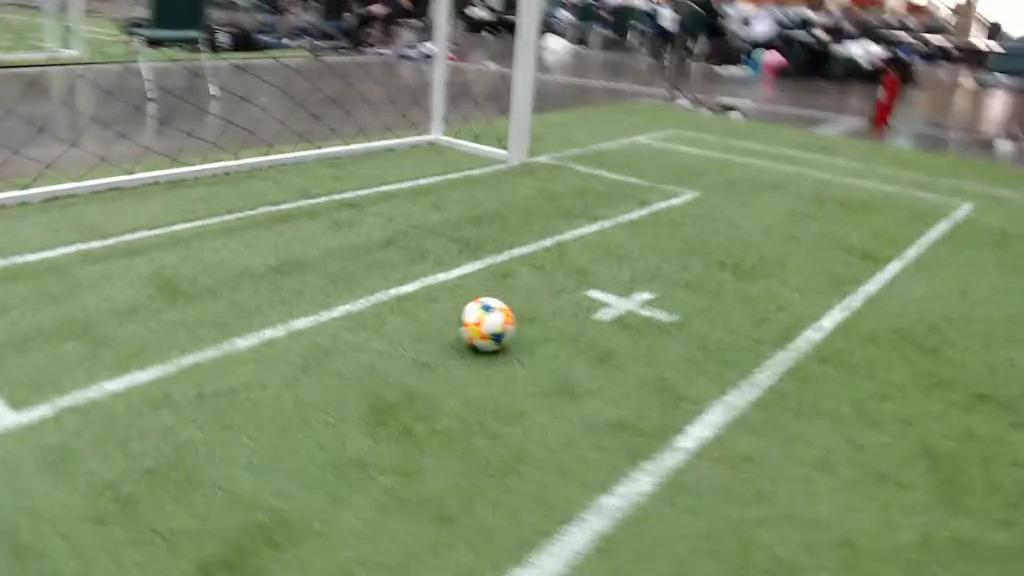ball: (461, 297, 516, 354)
